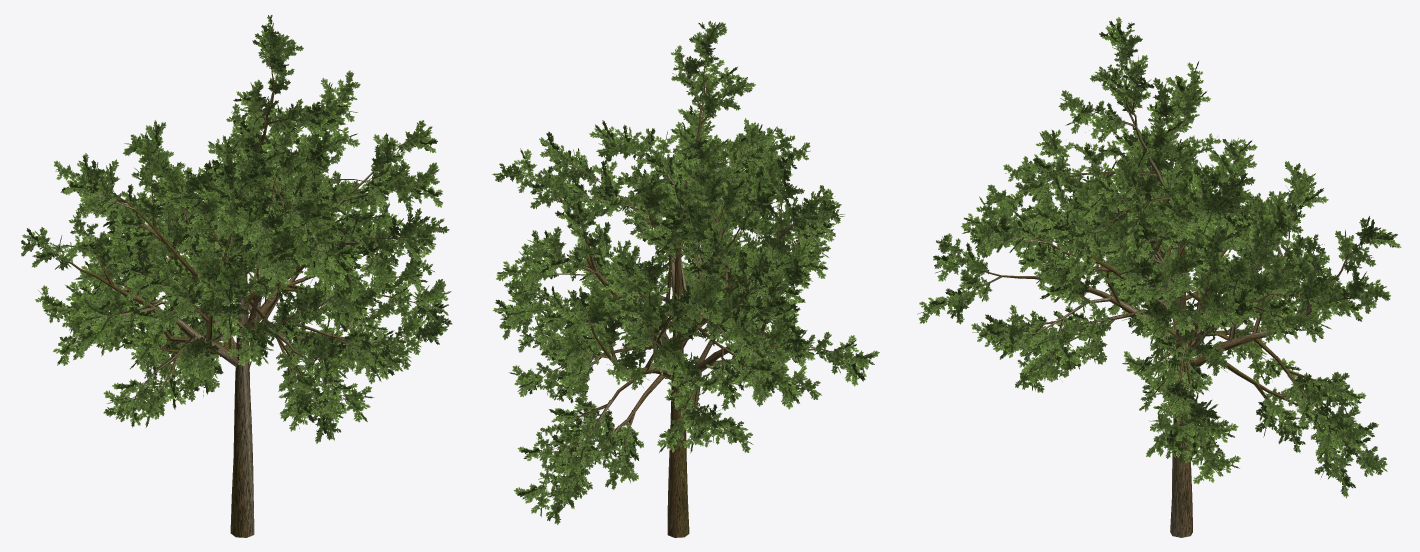
File: oak.glb
3 views of the same model, side by side, from view 1: azimuth 30°, elevation 25°; view 2: azimuth 150°, elevation 25°; view 3: azimuth 270°, elevation 25° (orthographic). The views are drawn at different scales.
Bounding box in the file's own units: 51.84 × 68.02 × 59.09.
Materials: 2 (2 with a texture image).
